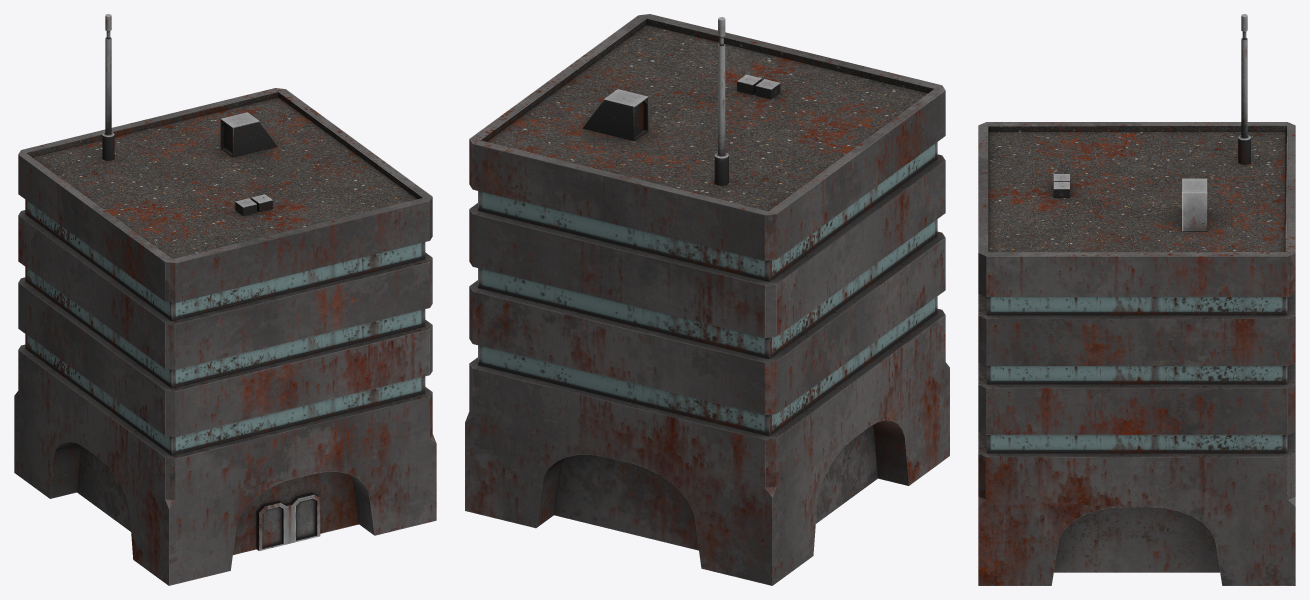
File: Building4.fbx
3 views of the same model, side by side, from view 1: azimuth 30°, elevation 25°; view 2: azimuth 150°, elevation 25°; view 3: azimuth 270°, elevation 25° (orthographic). The views are drawn at different scales.
Parts seen in each view (by area): view 1: base, detail5, detail4, detail3; view 2: base, detail4, detail3; view 3: base, detail4, detail3.
Part boxes in pixels (x1,y1,x2,y2): base: (14, 88, 436, 585); detail5: (256, 493, 320, 550); detail4: (220, 112, 277, 157); detail3: (102, 14, 114, 160); base: (465, 14, 949, 585); detail4: (582, 89, 648, 140); detail3: (714, 17, 728, 185); base: (978, 122, 1295, 585); detail4: (1182, 178, 1207, 231); detail3: (1238, 14, 1250, 164).
Size of the model in its own units: 2786 by 2786 by 4565.
1 material, 1 textured.
